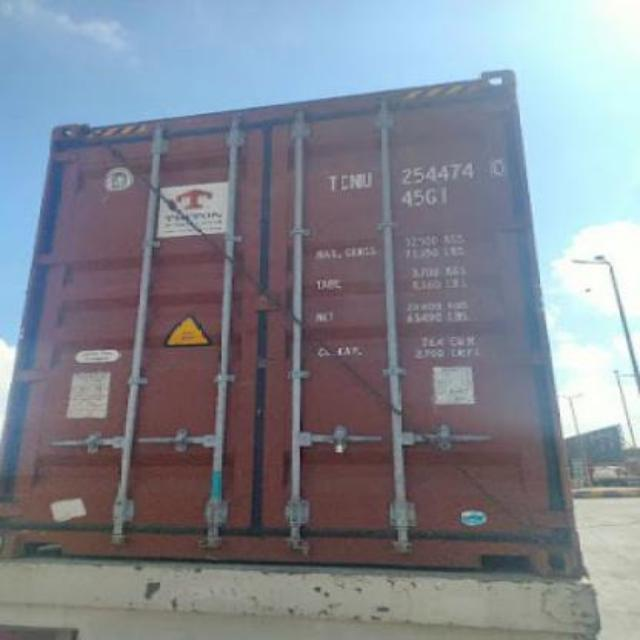0: (488, 156, 514, 177)
2: (396, 163, 412, 189)
4: (458, 158, 476, 186), (434, 158, 450, 182), (424, 162, 438, 182)
5: (408, 164, 426, 182)
7: (444, 158, 464, 188)
C: (336, 171, 349, 197)
N: (346, 171, 362, 197)
T: (322, 170, 340, 193)
U: (362, 164, 374, 192)
